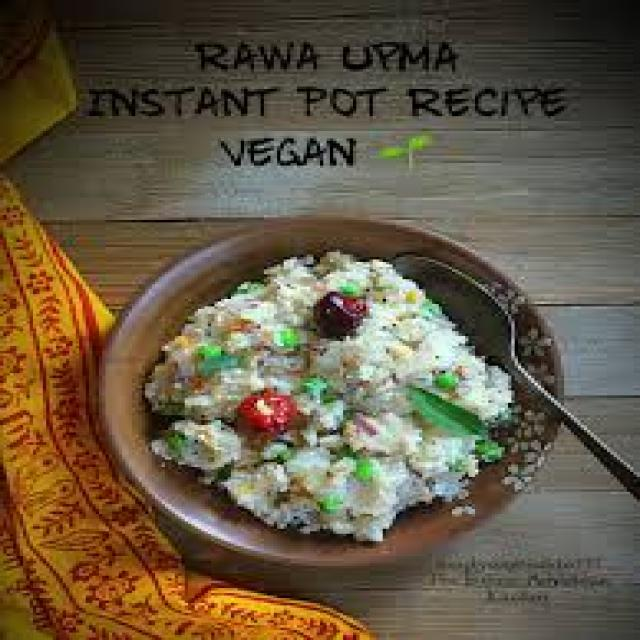UPMA: (142, 247, 511, 536)
